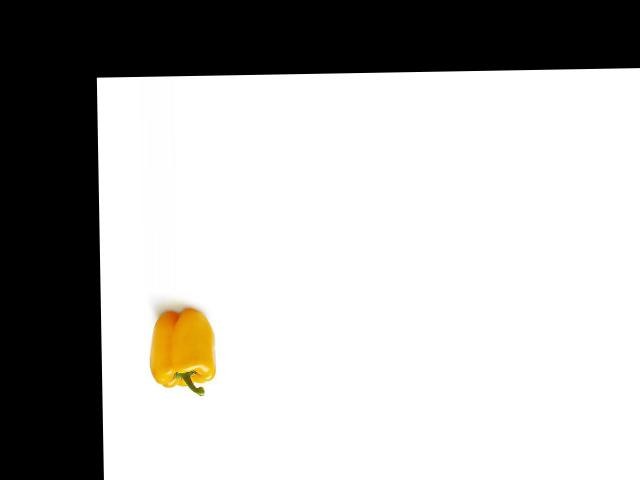bell_pepper: (148, 307, 224, 400)
